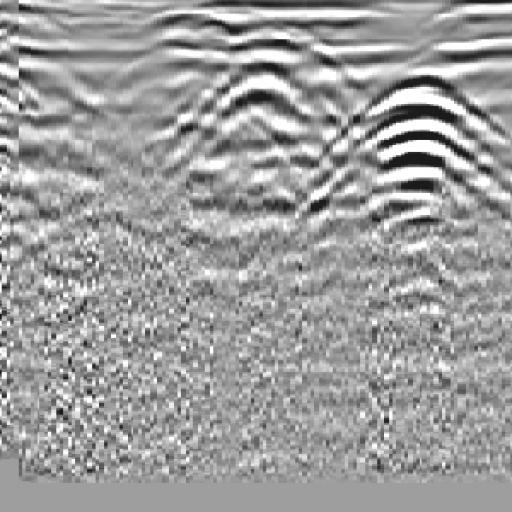metalic: (300, 48, 512, 314)
